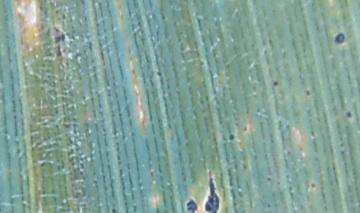tarspot: (204, 175, 219, 213), (52, 27, 66, 57), (186, 198, 198, 213), (333, 33, 345, 45), (155, 69, 163, 77), (304, 88, 311, 97), (272, 80, 280, 87), (345, 110, 352, 118), (229, 133, 235, 142), (242, 125, 248, 132), (310, 183, 317, 189), (111, 207, 117, 213), (267, 176, 272, 183), (266, 202, 271, 209)
